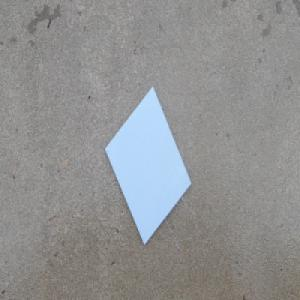PaintChip: (105, 85, 193, 247)
